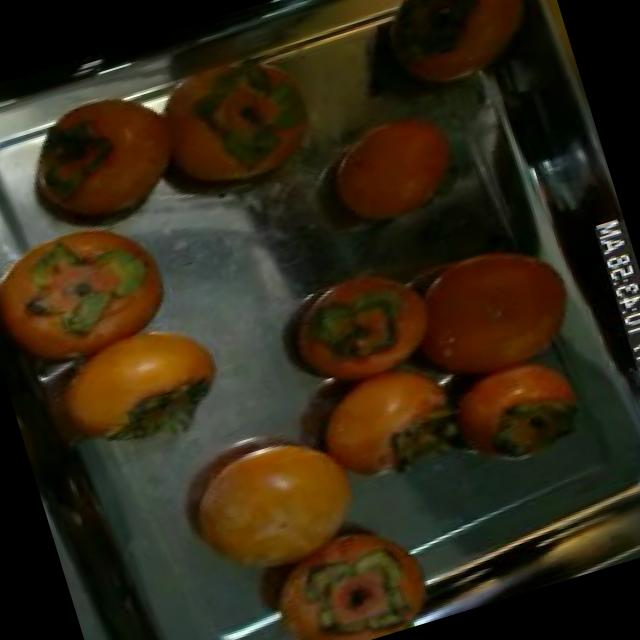Fruit: (147, 399, 396, 612), (358, 206, 608, 414), (0, 78, 207, 257), (288, 336, 487, 508), (296, 82, 494, 254), (234, 494, 456, 640), (416, 330, 608, 489), (261, 252, 436, 403)
